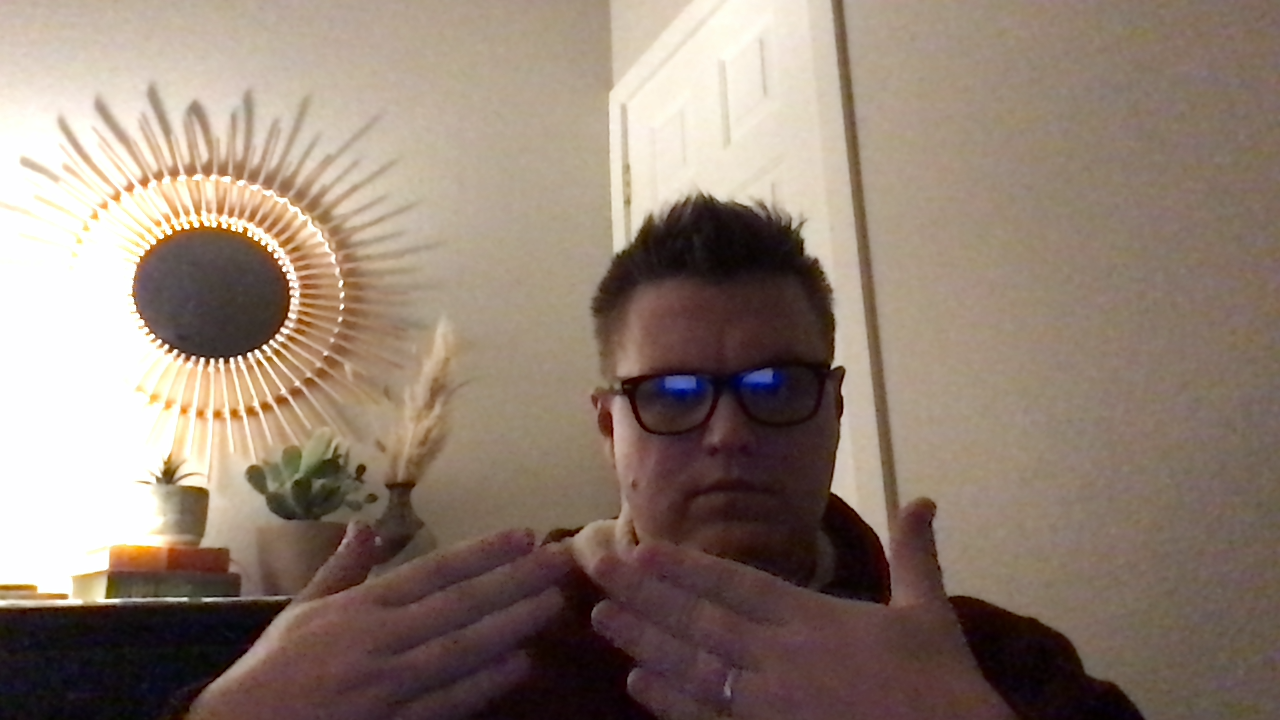thankyou: (171, 489, 1018, 720)
